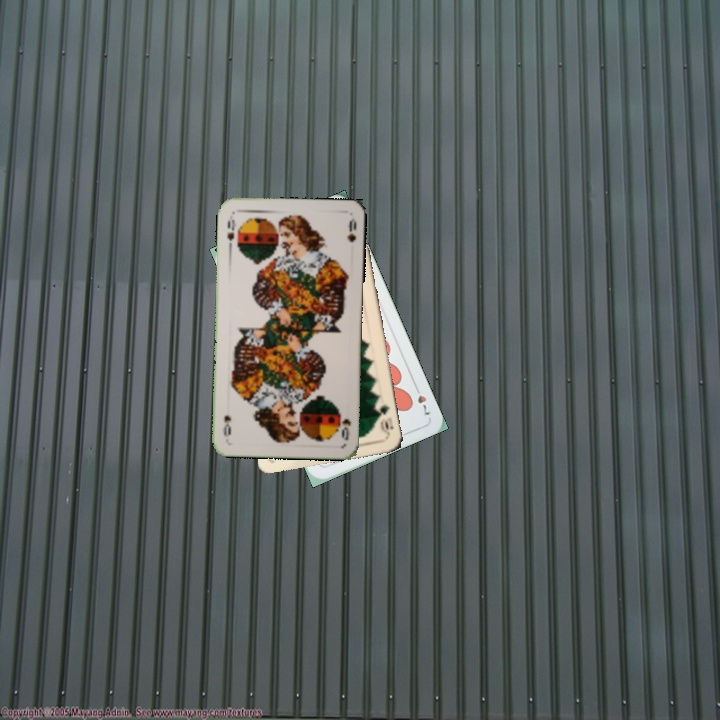G10: (374, 401, 396, 437)
H7: (410, 381, 433, 418)
SO: (223, 211, 239, 252), (335, 409, 353, 443)
